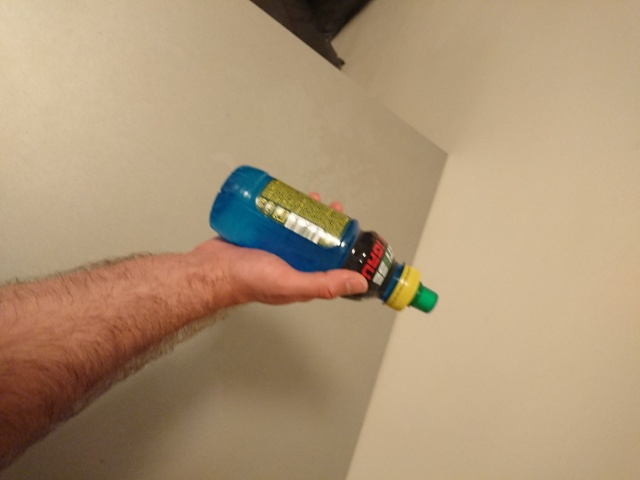Vindi Iso Sport Forest Strawberries 500mL: (207, 162, 439, 315)
